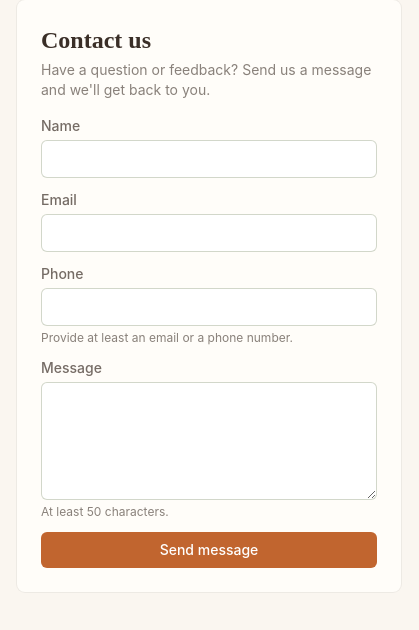
ContactPage › rejects a message shorter than 50 characters
In the field labelled "Name": (209, 159) [41,140,377,178], type "Ana"
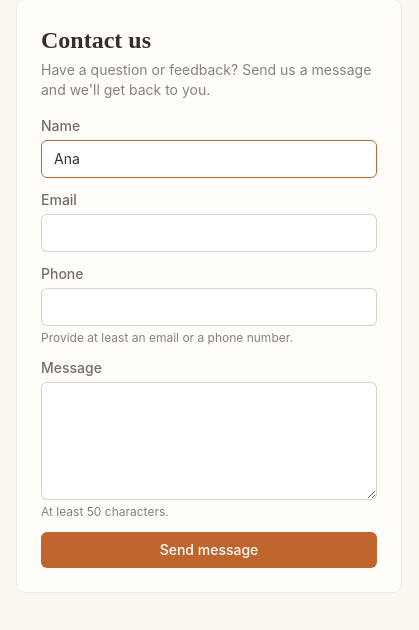
In the field labelled "Email": (209, 233) [41,214,377,252], type "ana@example.com"
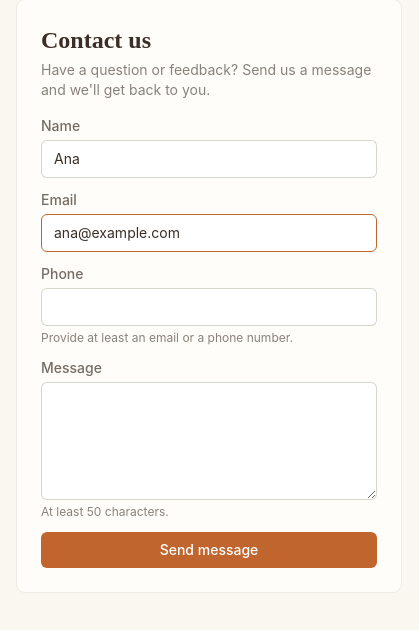
In the text box labelled "Message": (209, 441) [41,382,377,500], type "too short"
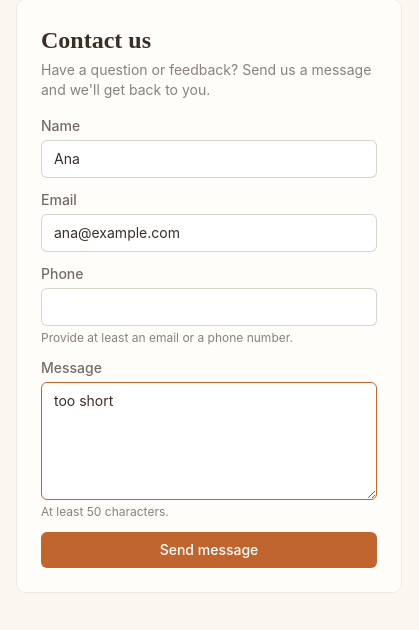
Click the button "Send message": (209, 550) [41,532,377,568]
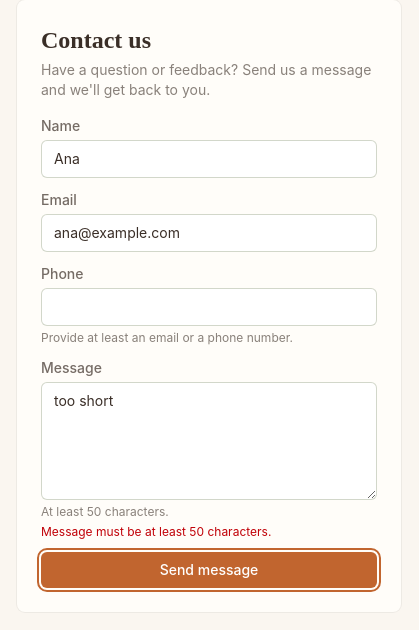
Result: the text "Message must be at least 50 characters." is shown at [41,524,271,539]
